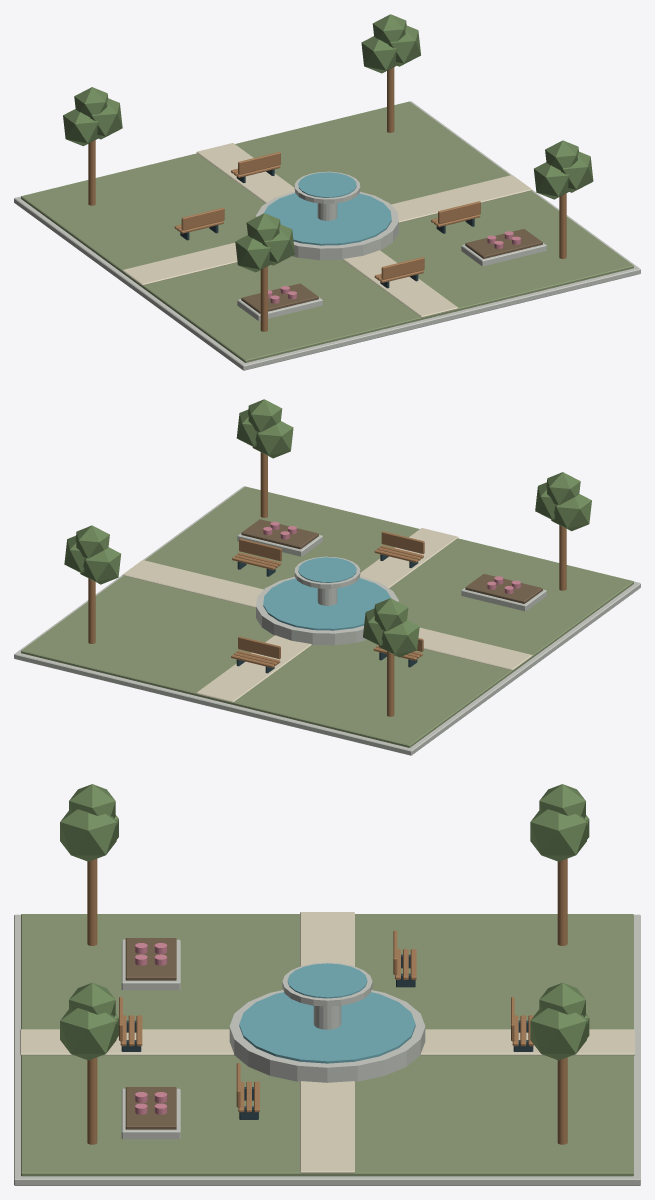
The model's file is park-plaza-4x4.glb.
3 views of the same model, one above another, from view 1: azimuth 30°, elevation 25°; view 2: azimuth 150°, elevation 25°; view 3: azimuth 270°, elevation 25° (orthographic). The views are drawn at different scales.
Visible parts, largest first — view 1: FacilityCombinedMesh; view 2: FacilityCombinedMesh; view 3: FacilityCombinedMesh.
Part boxes in pixels (left/top/right/bottom): FacilityCombinedMesh: left=14, top=14, right=640, bottom=370; FacilityCombinedMesh: left=14, top=399, right=640, bottom=755; FacilityCombinedMesh: left=14, top=784, right=640, bottom=1185.
Bounding box in the file's own units: 16 × 4.8 × 16.
